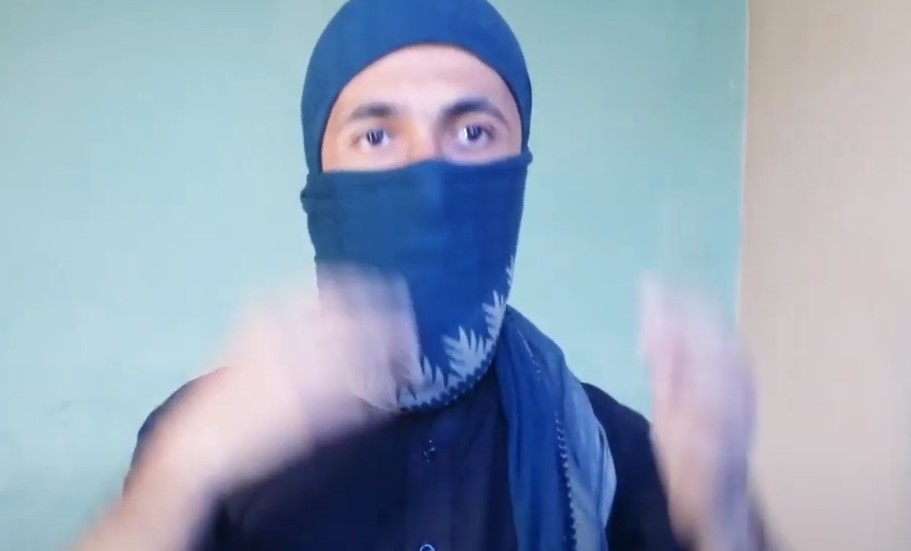face_with_mask: (312, 21, 526, 323)
